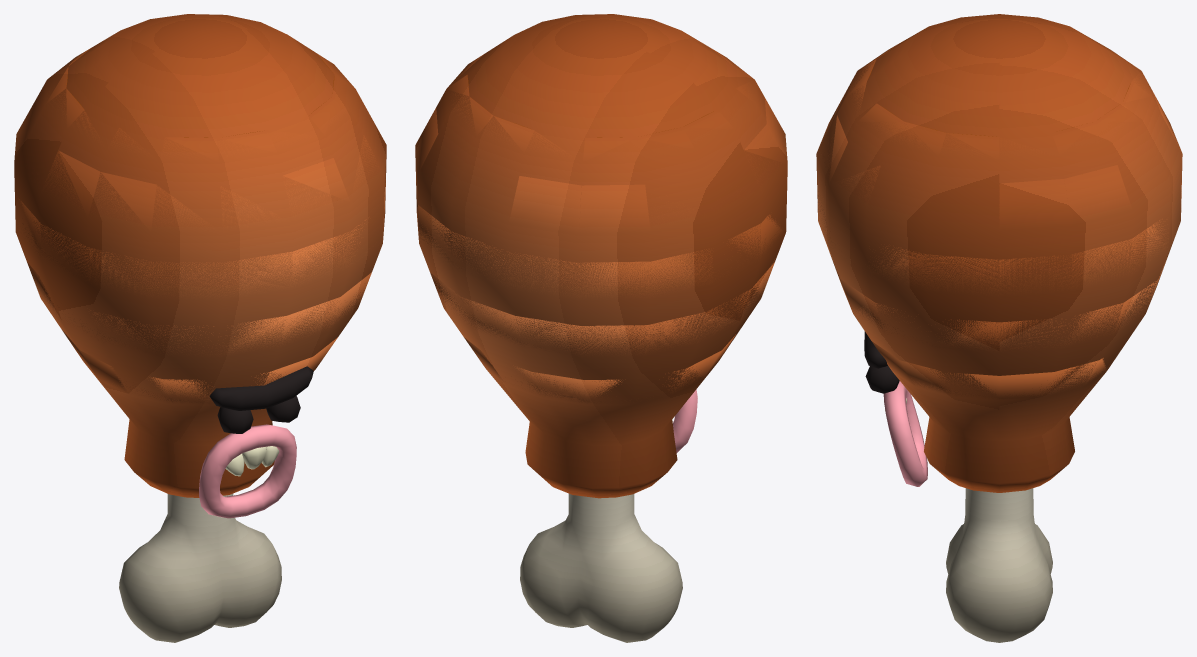
File: ENEMY_ChickenLeg.fbx
The picture shows the model from 3 angles, left to right: view 1: azimuth 30°, elevation 25°; view 2: azimuth 150°, elevation 25°; view 3: azimuth 270°, elevation 25°; orthographic projection.
Visible parts, largest first — view 1: ENEMY_ChickenLeg_00, ENEMY_ChickenLeg_02, ENEMY_ChickenLeg_04, ENEMY_ChickenLeg_01, ChickenLeg_AngryMouth, ENEMY_ChickenLeg_06, ChickenLeg_AngryEyes, ENEMY_ChickenLeg_08; view 2: ENEMY_ChickenLeg_00, ENEMY_ChickenLeg_02, ENEMY_ChickenLeg_04, ENEMY_ChickenLeg_06, ENEMY_ChickenLeg_01, ENEMY_ChickenLeg_08, ChickenLeg_AngryMouth; view 3: ENEMY_ChickenLeg_00, ENEMY_ChickenLeg_04, ENEMY_ChickenLeg_02, ENEMY_ChickenLeg_01, ENEMY_ChickenLeg_06, ENEMY_ChickenLeg_08, ChickenLeg_AngryMouth, ChickenLeg_AngryEyes.
Part boxes in pixels (<box>): ENEMY_ChickenLeg_00: <box>14,14,386,642</box>; ENEMY_ChickenLeg_02: <box>14,135,383,233</box>; ENEMY_ChickenLeg_04: <box>16,179,385,300</box>; ENEMY_ChickenLeg_01: <box>45,47,355,162</box>; ChickenLeg_AngryMouth: <box>199,424,296,518</box>; ENEMY_ChickenLeg_06: <box>27,262,371,357</box>; ChickenLeg_AngryEyes: <box>209,366,313,433</box>; ENEMY_ChickenLeg_08: <box>61,329,337,404</box>; ENEMY_ChickenLeg_00: <box>415,14,787,642</box>; ENEMY_ChickenLeg_02: <box>415,97,787,233</box>; ENEMY_ChickenLeg_04: <box>416,183,785,300</box>; ENEMY_ChickenLeg_06: <box>430,262,774,357</box>; ENEMY_ChickenLeg_01: <box>446,48,756,162</box>; ENEMY_ChickenLeg_08: <box>464,334,735,404</box>; ChickenLeg_AngryMouth: <box>672,389,697,452</box>; ENEMY_ChickenLeg_00: <box>816,14,1182,642</box>; ENEMY_ChickenLeg_04: <box>817,183,1181,297</box>; ENEMY_ChickenLeg_02: <box>817,89,1181,230</box>; ENEMY_ChickenLeg_01: <box>847,41,1151,160</box>; ENEMY_ChickenLeg_06: <box>830,255,1165,353</box>; ENEMY_ChickenLeg_08: <box>872,341,1106,400</box>; ChickenLeg_AngryMouth: <box>883,381,927,486</box>; ChickenLeg_AngryEyes: <box>864,331,899,393</box>.
Size of the model in its own units: 3.98 by 7.09 by 3.98.
